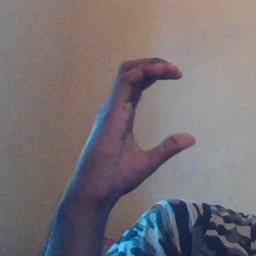C: (102, 57, 200, 172)
